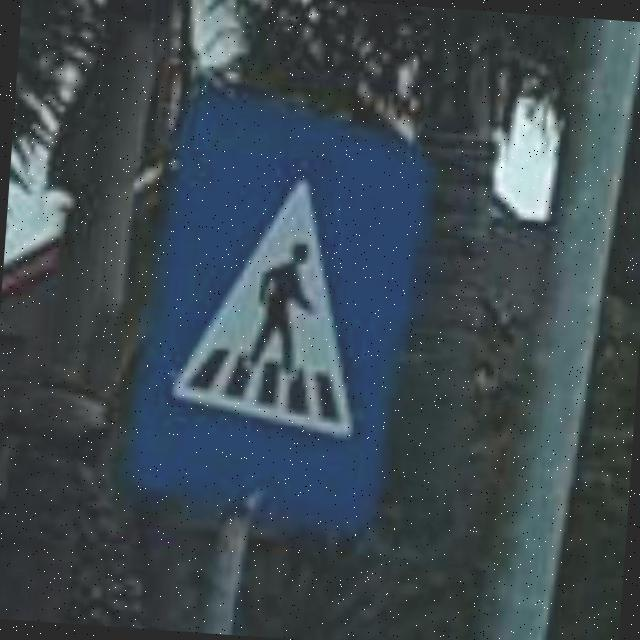Przejscie dla pieszych: (151, 125, 396, 498)
